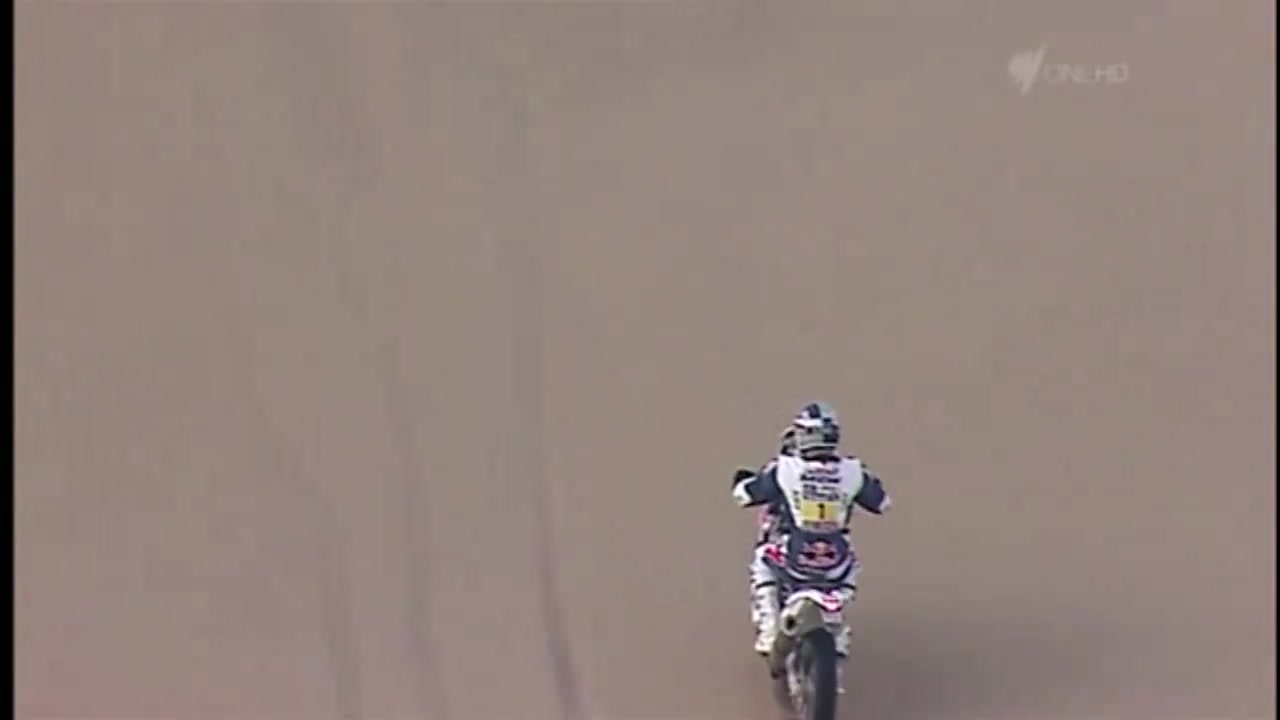motorbike: (732, 465, 847, 717)
